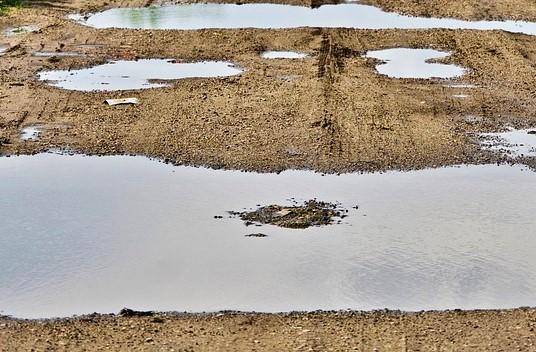pothole: (4, 138, 536, 324), (70, 2, 536, 36), (31, 51, 246, 99), (364, 42, 471, 84), (472, 123, 536, 160), (257, 43, 303, 63)
